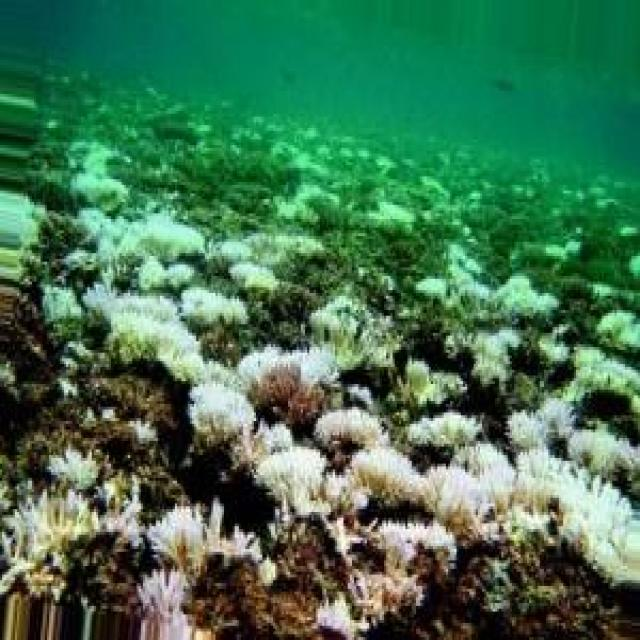bleached coral: (501, 452, 640, 583), (239, 347, 369, 427), (100, 296, 198, 384), (258, 447, 361, 518), (425, 273, 559, 324), (98, 216, 205, 276), (350, 449, 442, 506), (190, 384, 256, 452), (207, 230, 329, 265)
